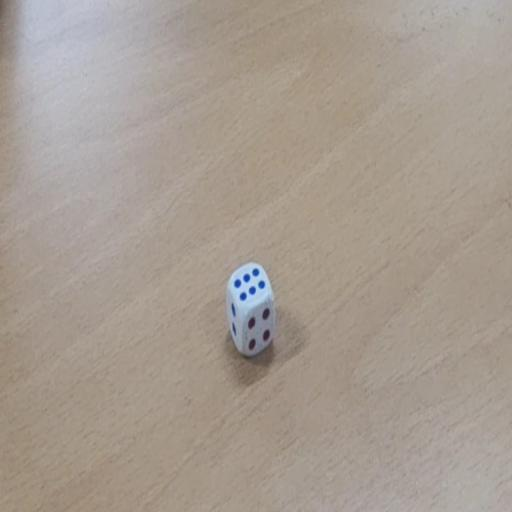dice_6: (226, 261, 275, 359)
